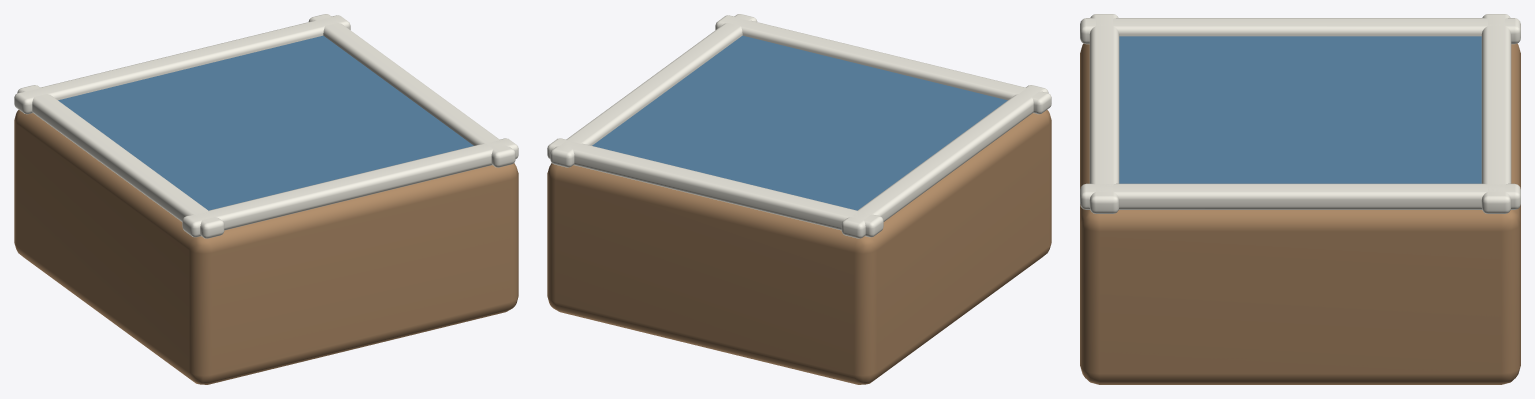
The model's file is atelier-hot-tub.glb.
3 views of the same model, side by side, from view 1: azimuth 30°, elevation 25°; view 2: azimuth 150°, elevation 25°; view 3: azimuth 270°, elevation 25° (orthographic). The views are drawn at different scales.
Visible parts, largest first — view 1: legs.208, artBlue.034, ceramic.134; view 2: legs.208, artBlue.034, ceramic.134; view 3: legs.208, artBlue.034, ceramic.134.
Boxes of the visible parts, x1,y1,x2,y2 form: legs.208: (14,110,518,384); artBlue.034: (58,35,473,210); ceramic.134: (14,14,518,238); legs.208: (547,110,1051,384); artBlue.034: (592,35,1007,210); ceramic.134: (547,14,1051,238); legs.208: (1080,43,1520,384); artBlue.034: (1119,36,1481,183); ceramic.134: (1080,14,1520,213).
Bounding box in the file's own units: 1.8 × 0.87 × 1.8.
